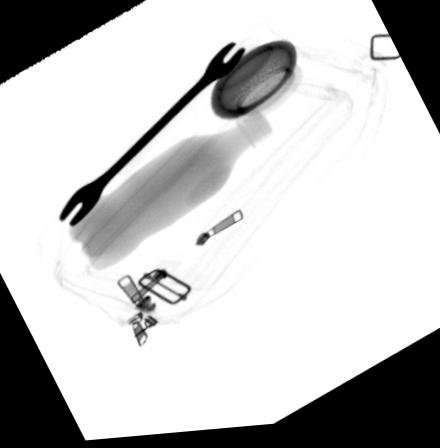Wrench: (55, 44, 245, 227)
